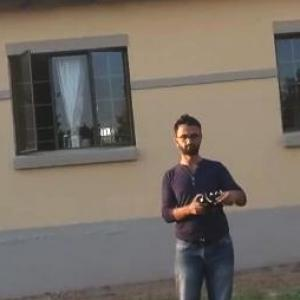follow: (157, 106, 255, 299)
